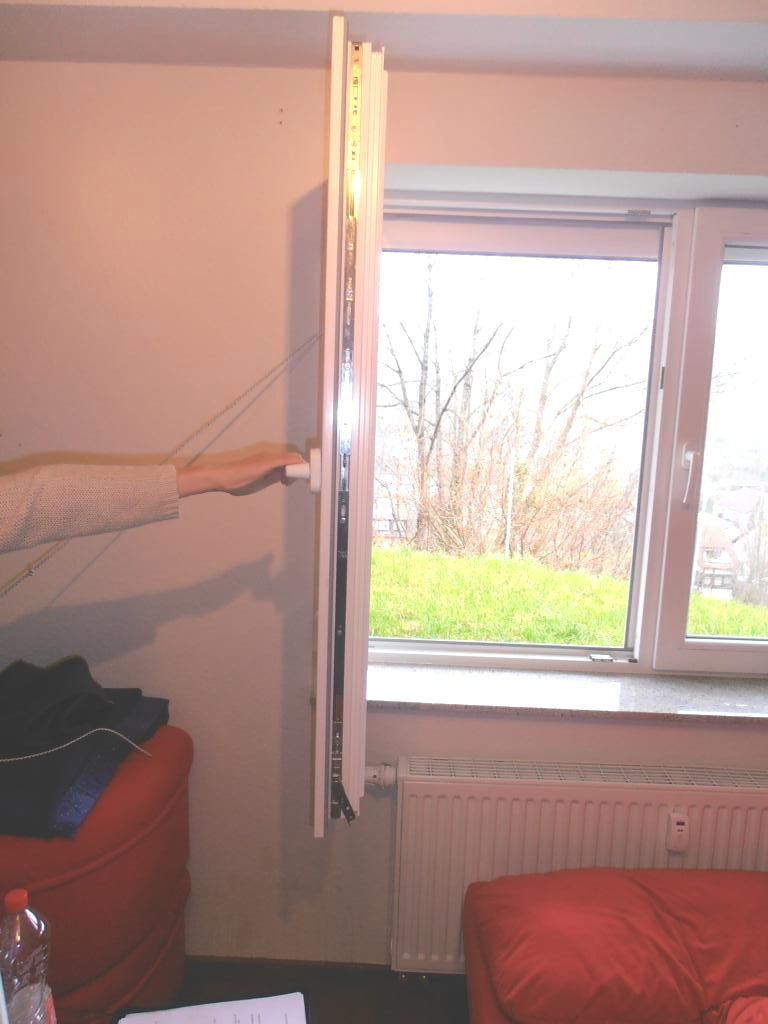windows: (357, 177, 763, 713)
